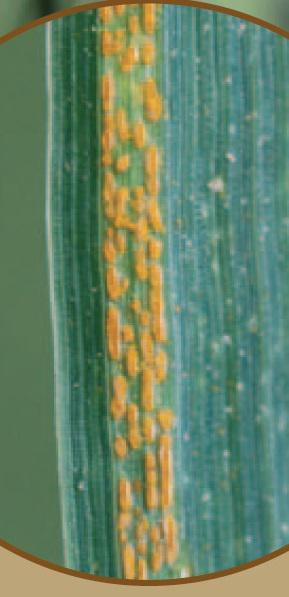Wheat: (88, 17, 204, 578)
